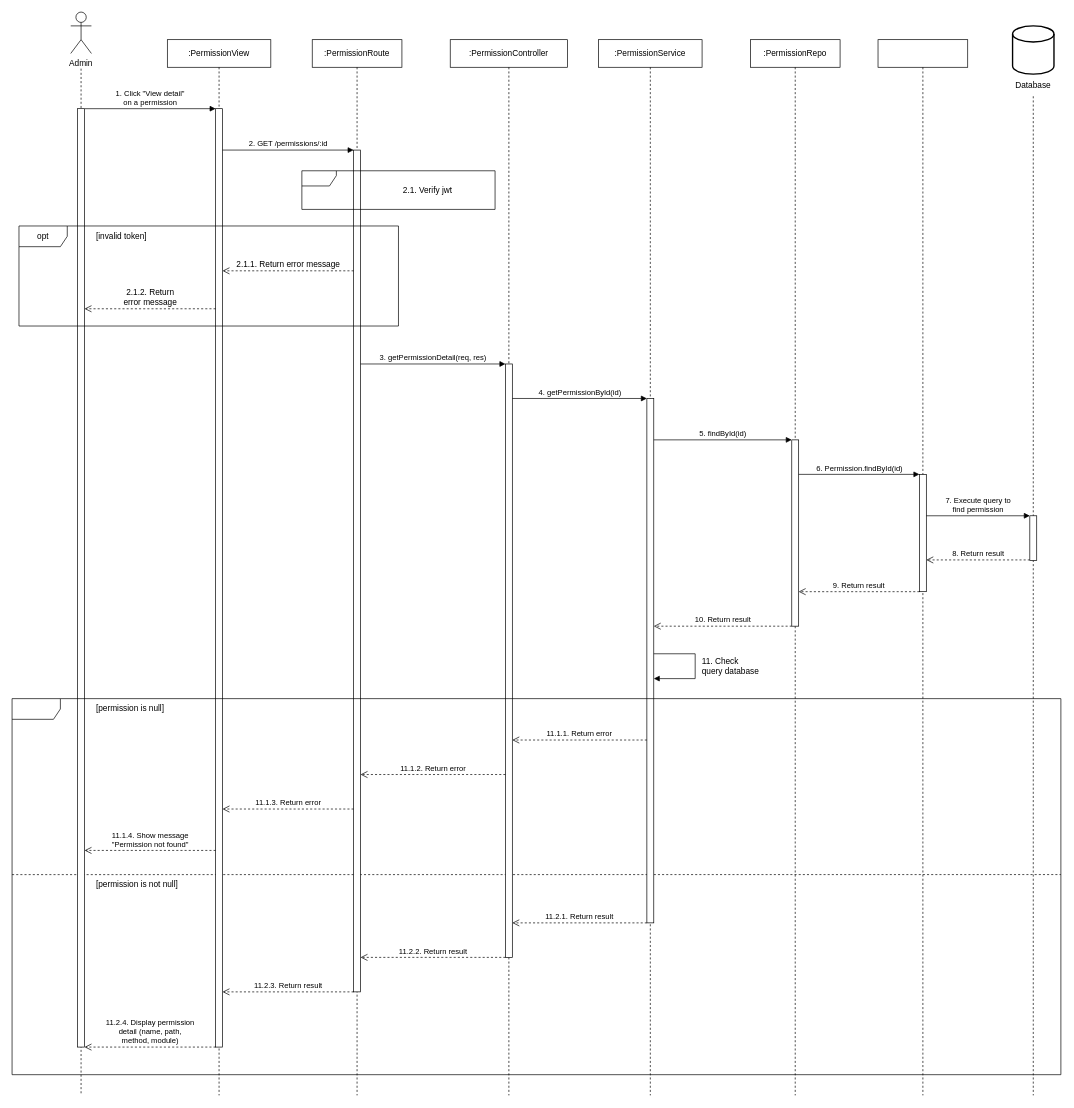
The diagram is 1074 pixels wide and 1108 high, and some of its shapes have lost their labels. The box of each missing label's shape, as (x1, y1, x2, y2) in pixels:
:PermissionModel: (877, 39, 968, 1095)
alt: (11, 698, 1061, 1075)
ref: (301, 170, 495, 209)
